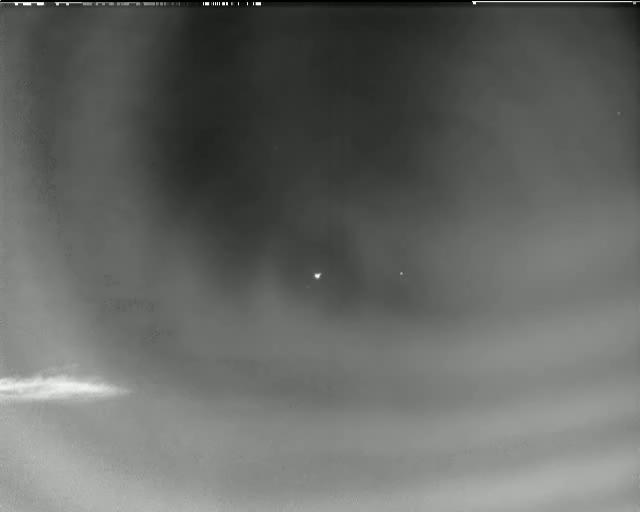uav: (314, 272, 323, 281)
